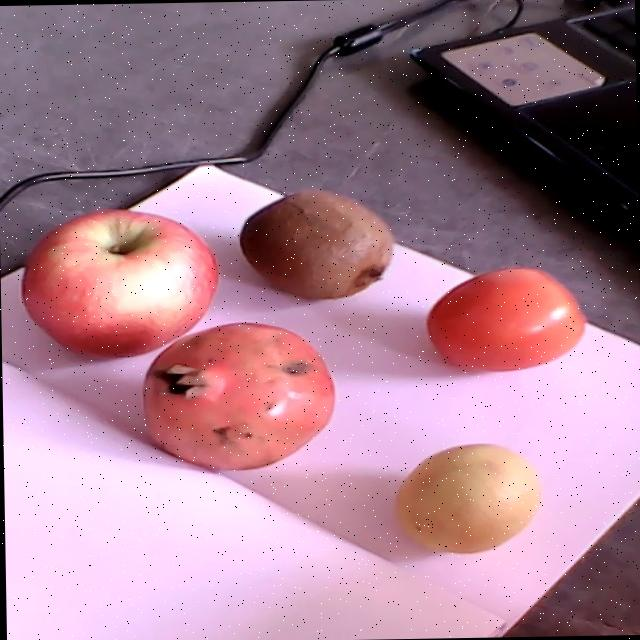apple: (22, 210, 218, 358)
kiwi: (239, 190, 393, 300)
lemon: (396, 444, 536, 553)
pomegranate: (142, 323, 333, 470)
tomato: (425, 267, 584, 371)
